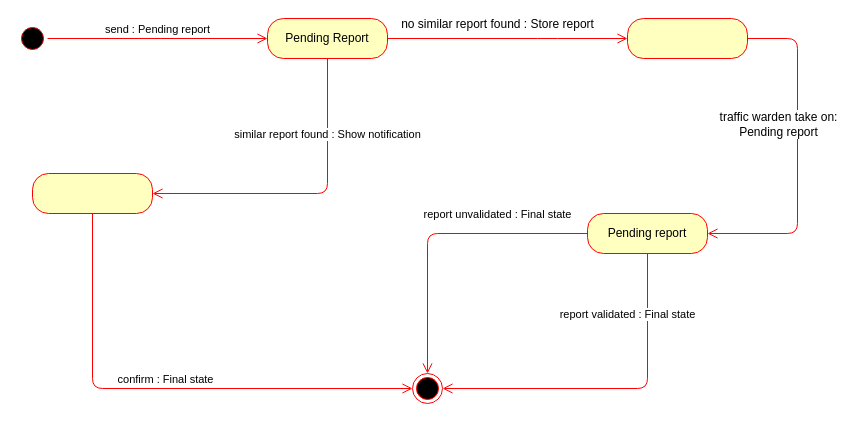
Some shapes in this 854 by 421 pixel diagram are drawn without their labels. Each missing label, with the centre of its shape:
Show notification: (x=92, y=193)
Store report: (x=687, y=38)
